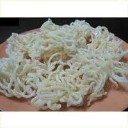idiyappam: (2, 33, 127, 101)
